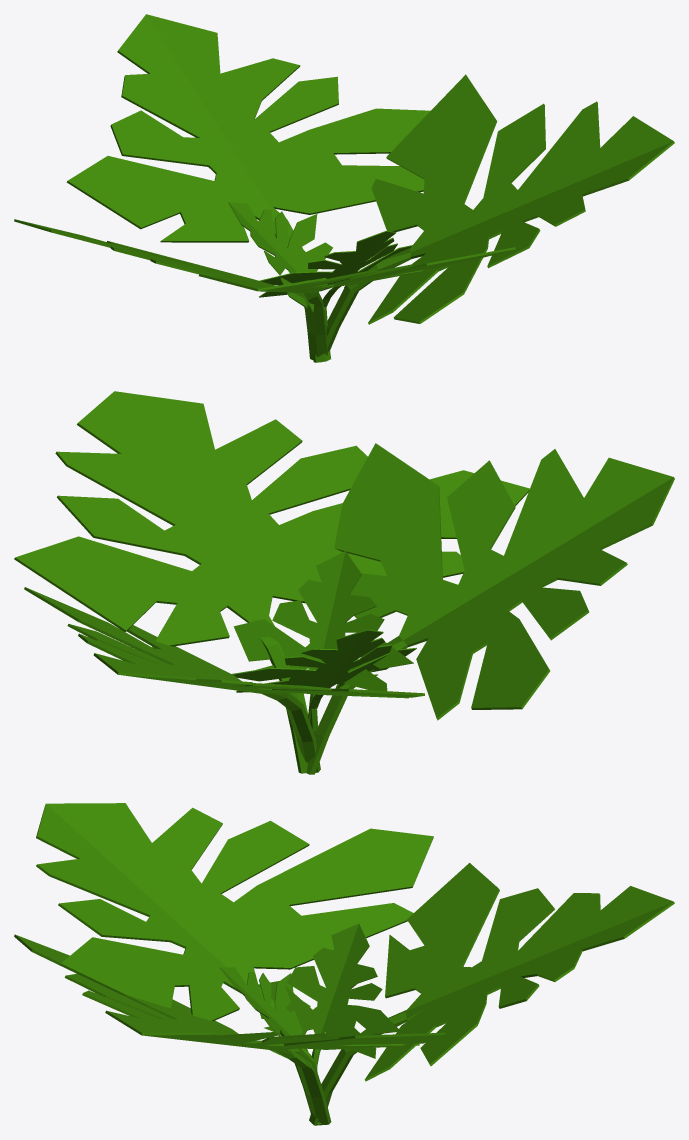
Rendered from Plant_b_03.fbx.
3 views of the same model, one above another, from view 1: azimuth 30°, elevation 25°; view 2: azimuth 150°, elevation 25°; view 3: azimuth 270°, elevation 25° (orthographic). The views are drawn at different scales.
Parts seen in each view (by area): view 1: Plant_b_03_LOD0; view 2: Plant_b_03_LOD0; view 3: Plant_b_03_LOD0.
Boxes of the visible parts, x1,y1,x2,y2 form: Plant_b_03_LOD0: (14,14,674,362); Plant_b_03_LOD0: (14,391,674,774); Plant_b_03_LOD0: (14,803,674,1125).
Size of what is drawn, in the model's own units: 18.94 by 7.67 by 20.67.
